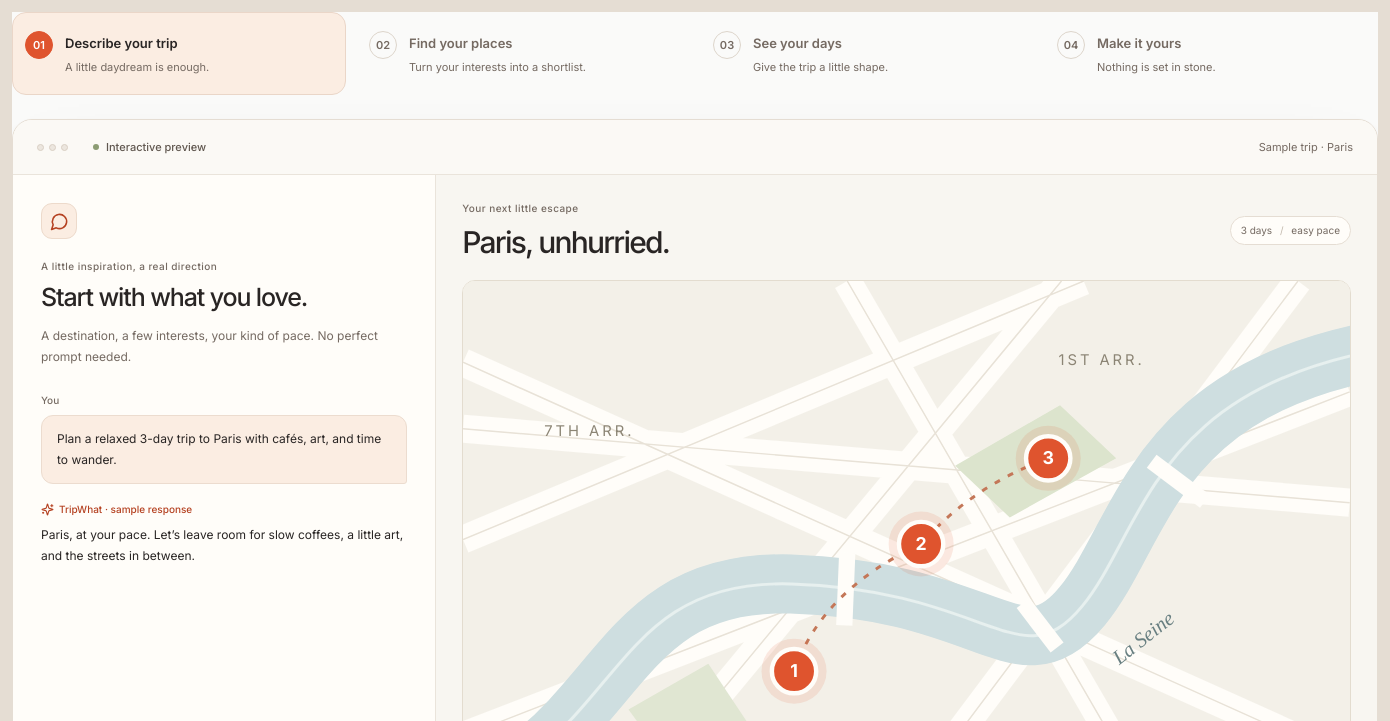
Scenario: TripWalkthrough › removes and re-adds the museum in both the itinerary and illustrative map
Click the tab "04 Make it yours Nothing is set in stone." at (1139, 43), box x1=1044 y1=12 x2=1378 y2=95
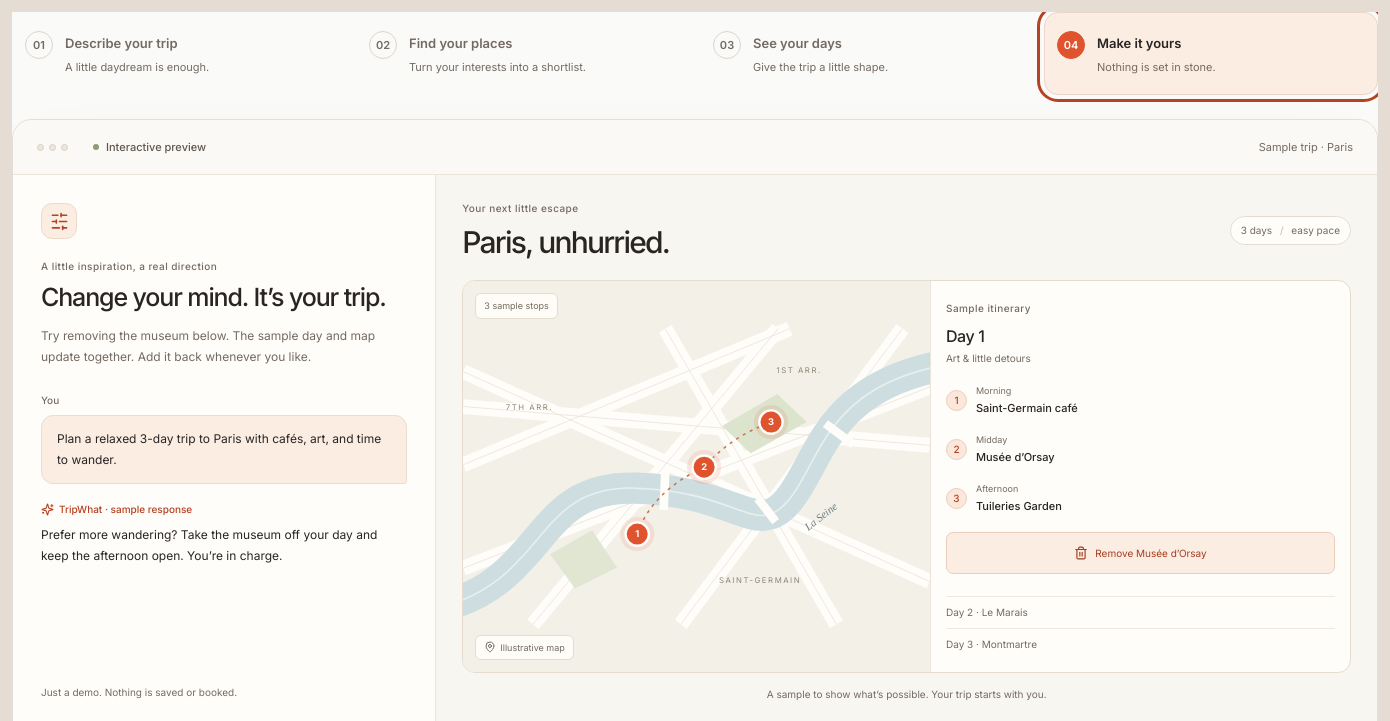
Expected: the picture "7TH ARR. 1ST ARR. SAINT-GERMAIN La Seine 1 2 3" is shown, x1=463 y1=281 x2=930 y2=672
Expected: the number of list items is 3, x1=946 y1=385 x2=1078 y2=415; x1=946 y1=434 x2=1055 y2=464; x1=946 y1=483 x2=1062 y2=513
Expected: the text "Musée d’Orsay" is shown, x1=976 y1=449 x2=1055 y2=465
Click the button "Remove Musée d’Orsay" at (1140, 553), box x1=946 y1=532 x2=1335 y2=574
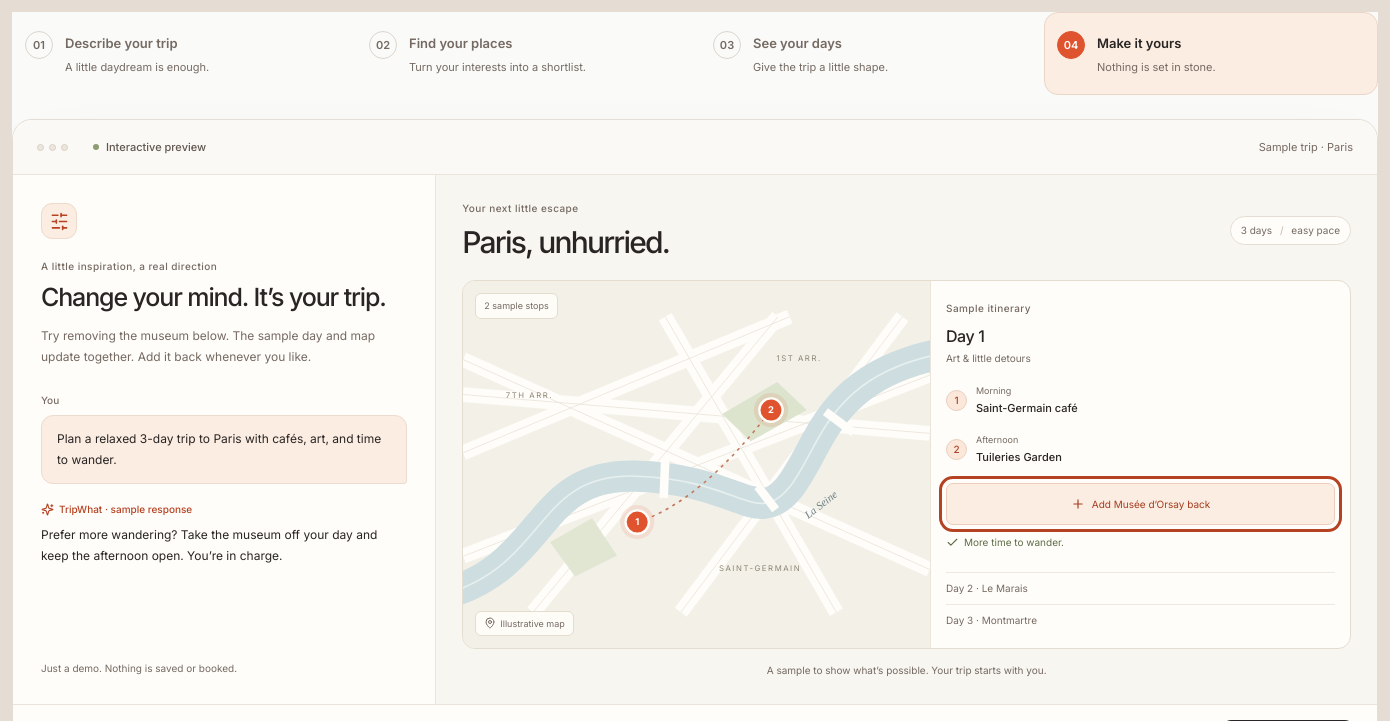
Expected: the number of list items is 2, x1=946 y1=385 x2=1078 y2=415; x1=946 y1=434 x2=1062 y2=464
Expected: the text "More time to wander." is shown, x1=946 y1=536 x2=1064 y2=549
Click the button "Add Musée d’Orsay back" at (1140, 504), box x1=946 y1=483 x2=1335 y2=525
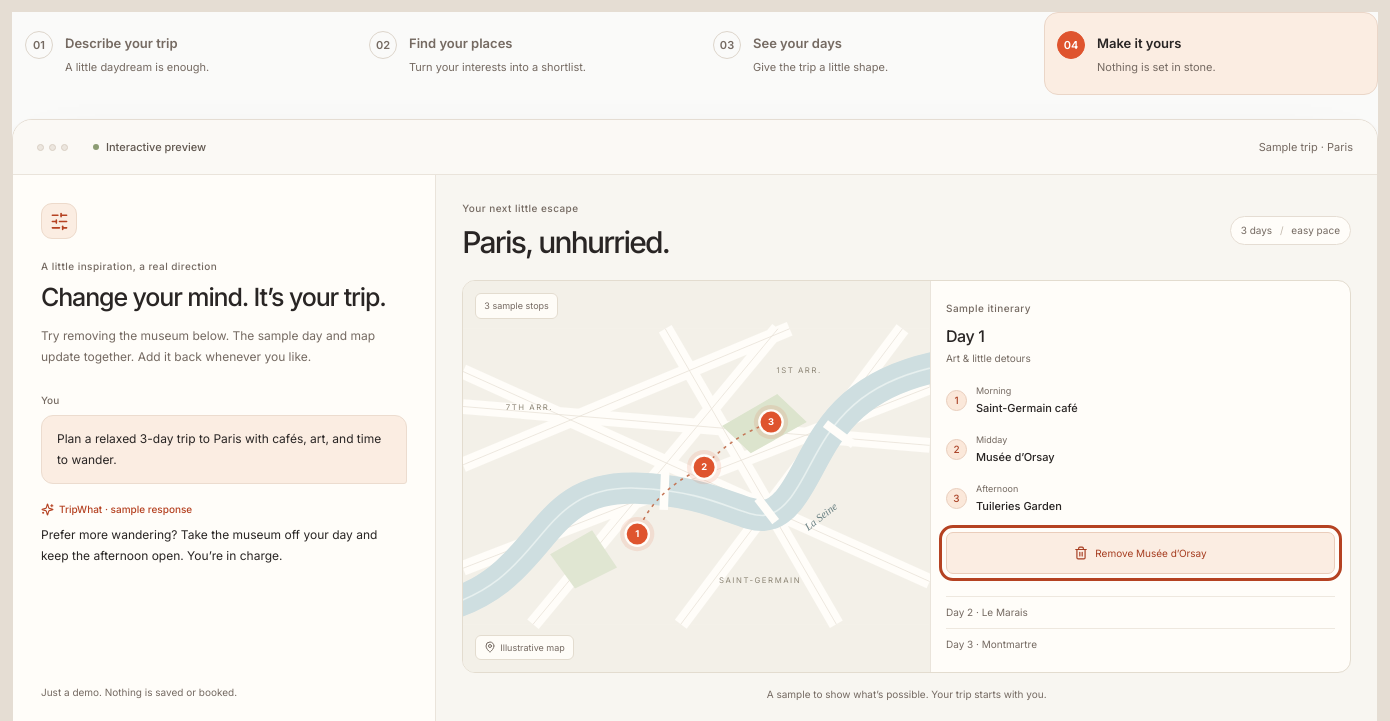
Expected: the number of list items is 3, x1=946 y1=385 x2=1078 y2=415; x1=946 y1=434 x2=1055 y2=464; x1=946 y1=483 x2=1062 y2=513
Expected: the text "Musée d’Orsay" is shown, x1=976 y1=449 x2=1055 y2=465
Expected: the picture "7TH ARR. 1ST ARR. SAINT-GERMAIN La Seine 1 2 3" is shown, x1=463 y1=281 x2=930 y2=672
